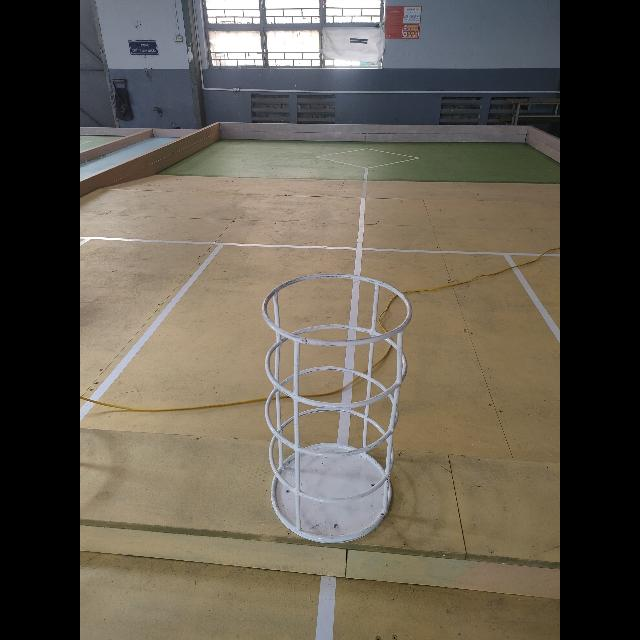S: (260, 269, 419, 546)
